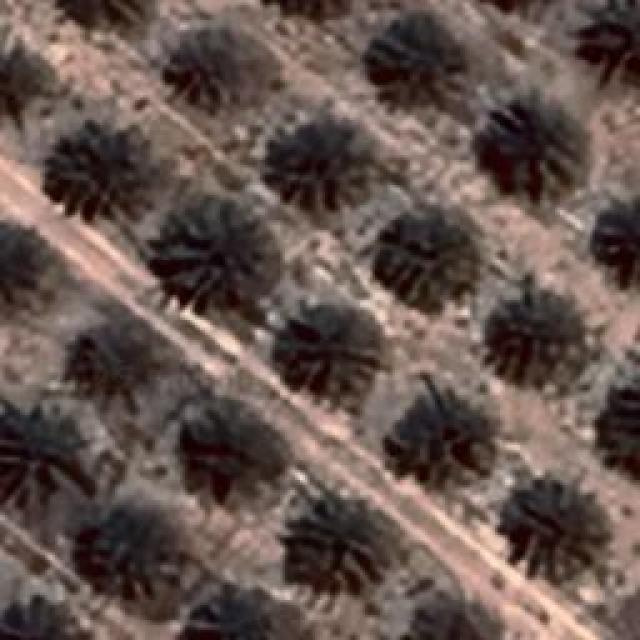PalmTree: (45, 115, 150, 220), (485, 90, 585, 195), (157, 200, 265, 295), (508, 482, 610, 580), (275, 304, 380, 398), (74, 500, 174, 598), (365, 15, 465, 110), (182, 404, 286, 494), (275, 116, 370, 212), (292, 492, 386, 586), (380, 218, 475, 308), (399, 395, 489, 490), (0, 414, 90, 508), (171, 31, 261, 109), (68, 319, 146, 409), (501, 295, 579, 375), (574, 0, 640, 90), (189, 582, 289, 640), (592, 185, 640, 293), (592, 381, 640, 488), (0, 34, 52, 124), (0, 592, 91, 640), (408, 592, 499, 640), (0, 208, 35, 322), (51, 0, 159, 36), (263, 0, 360, 21)
